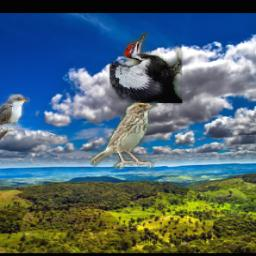Cuckoo: (0, 95, 29, 158)
Sparrow: (90, 99, 155, 170)
Woodpecker: (108, 32, 181, 103)
